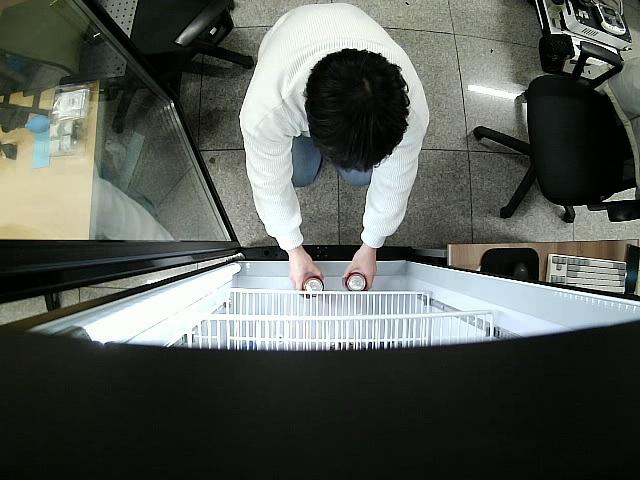00_hand: (344, 247, 377, 289), (286, 253, 321, 291)
11_cocaColaZero: (301, 274, 324, 296), (343, 274, 366, 293)
